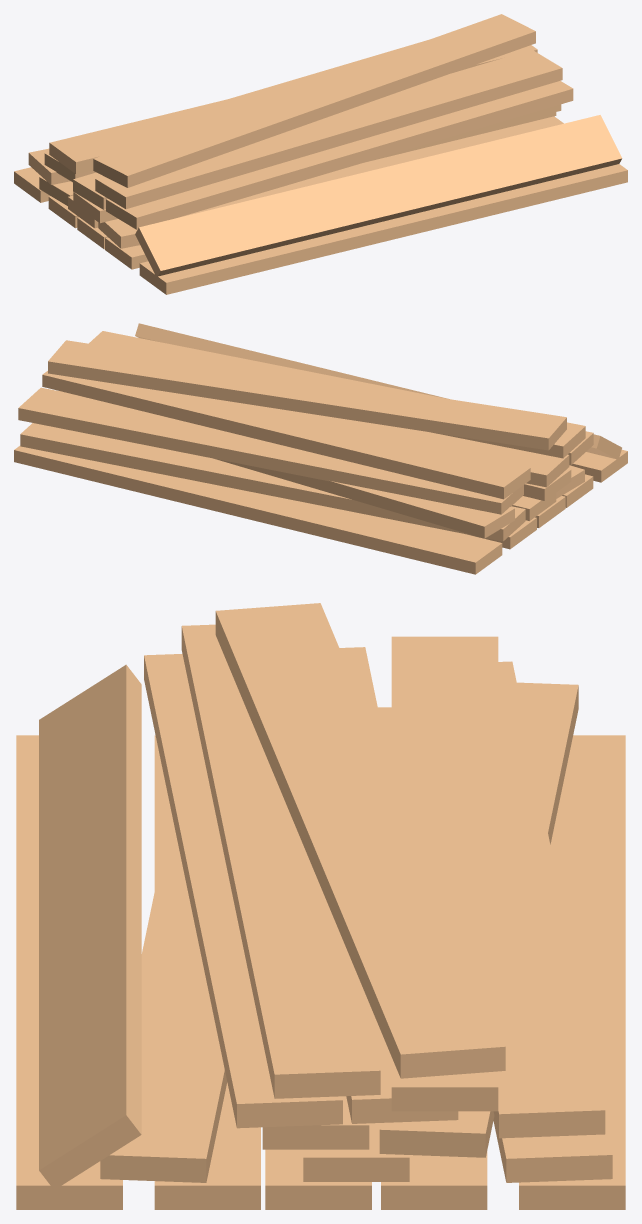
Rendered from firewood02.fbx.
3 views of the same model, one above another, from view 1: azimuth 30°, elevation 25°; view 2: azimuth 150°, elevation 25°; view 3: azimuth 270°, elevation 25° (orthographic). The views are drawn at different scales.
Parts seen in each view (by area): view 1: FireWood02; view 2: FireWood02; view 3: FireWood02.
Part boxes in pixels (left/top/right/bottom): FireWood02: left=14, top=14, right=627, bottom=294; FireWood02: left=14, top=323, right=627, bottom=574; FireWood02: left=16, top=603, right=625, bottom=1209.
Size of the model in its own units: 104 by 58.07 by 16.76.
